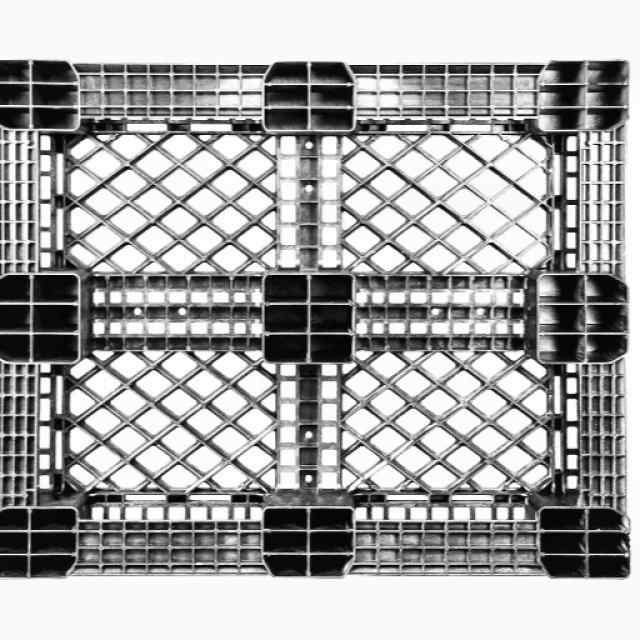non-igps: (0, 50, 636, 587)
